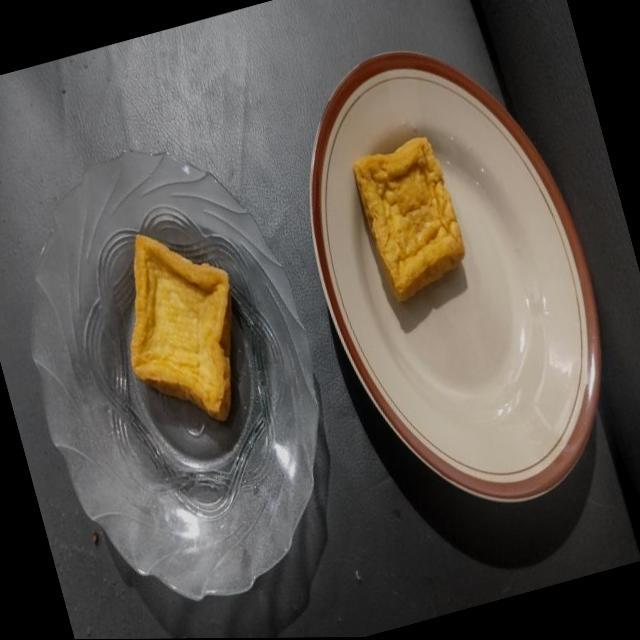tahu_goreng: (130, 235, 232, 420), (353, 137, 464, 300)
